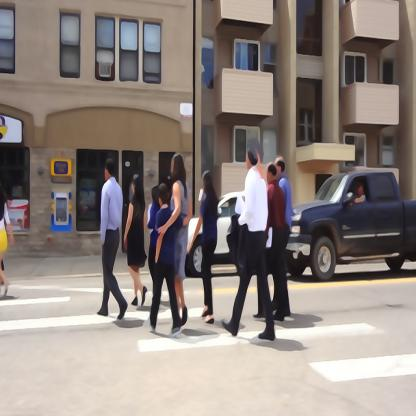Car: (183, 192, 246, 274)
Truck: (289, 160, 416, 283)
